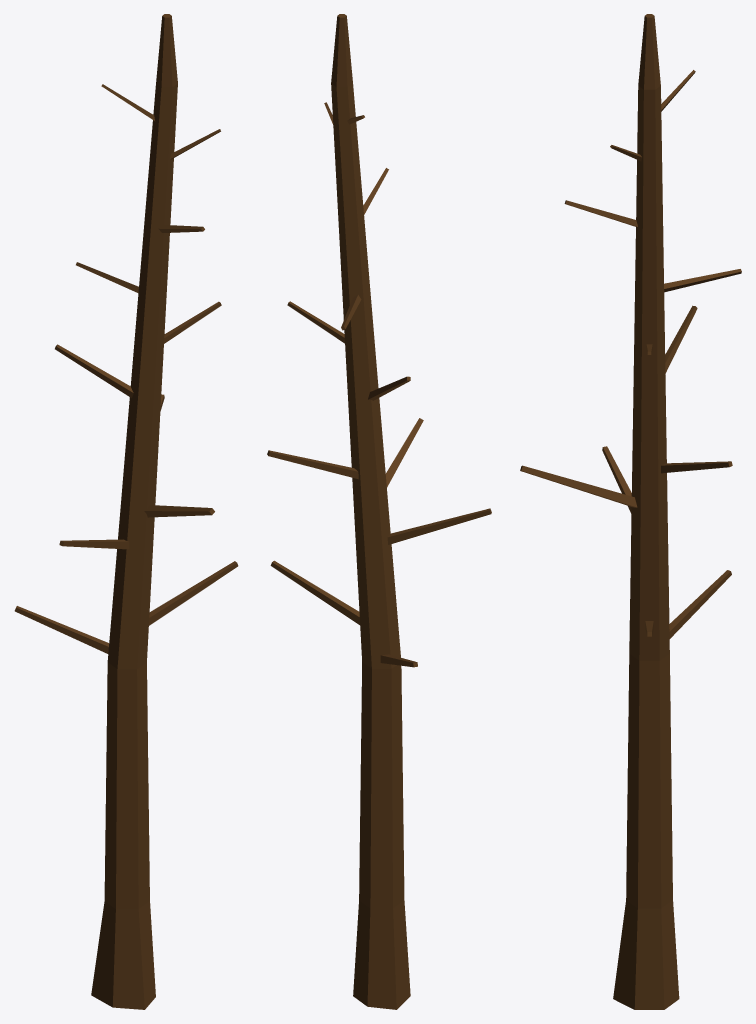
Rendered from tree3.glb.
3 views of the same model, side by side, from view 1: azimuth 30°, elevation 25°; view 2: azimuth 150°, elevation 25°; view 3: azimuth 270°, elevation 25° (orthographic). The views are drawn at different scales.
Visible parts, largest first — view 1: Tree5_1; view 2: Tree5_1; view 3: Tree5_1.
Boxes of the visible parts, x1,y1,x2,y2 form: Tree5_1: (14,14,238,1009); Tree5_1: (267,14,491,1009); Tree5_1: (520,14,741,1009).
Bounding box in the file's own units: 1.7 × 7.94 × 1.59.
